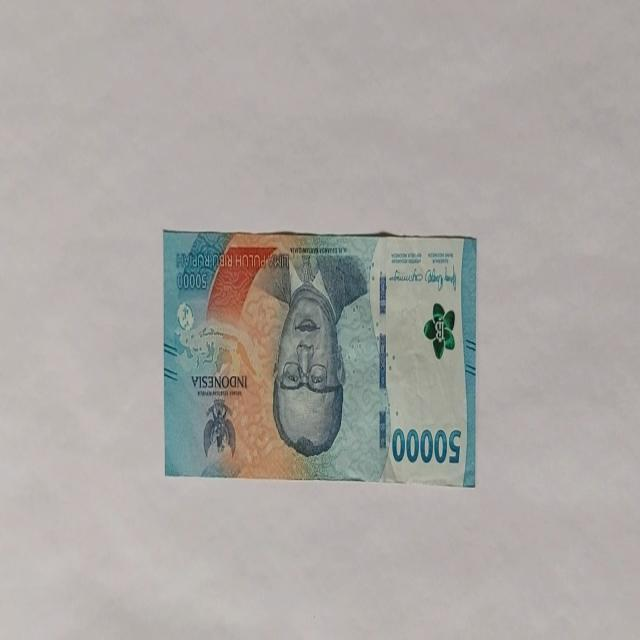lima puluh ribu rupiah: (162, 228, 478, 486)
